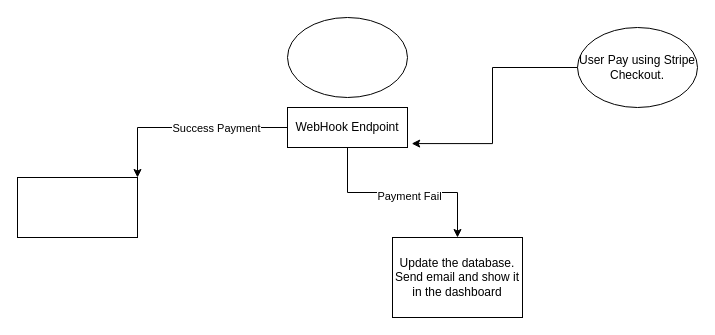
The diagram is 715 pixels wide and 335 high, and some of its shapes have lost their labels. Here are the shapes that lost their labels. From the top down, the centre of each, then its label:
the point at 347,57: What to do with the free tier at this point??
the point at 77,207: Update the database.
